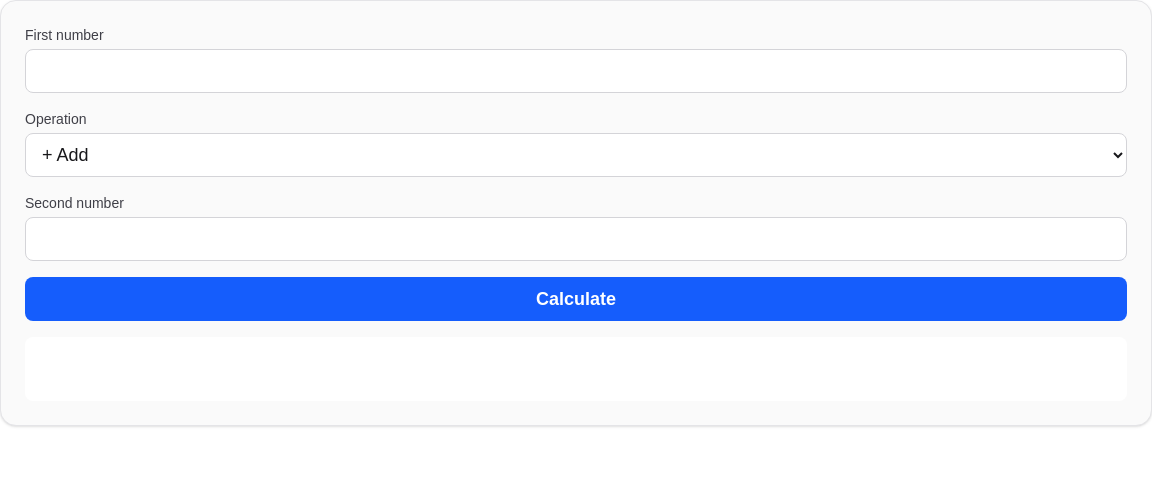
Calculator error handling › clears a field error once the field is edited, then submits
This screenshot has width=1152, height=492.
Click the button "Calculate".
click(576, 299)  # box [25,277,1127,321]
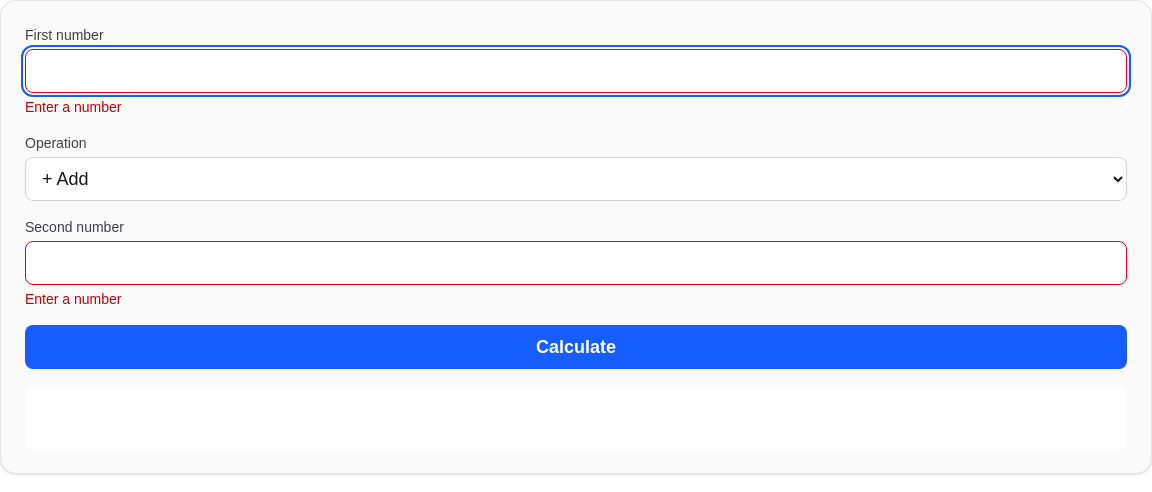
Check: the text "Enter a number" is shown 2 times, box [25,99,122,115]; [25,291,122,307]
Type "10" into the field labelled "First number".
click(576, 71); type("10")  # box [25,49,1127,93]
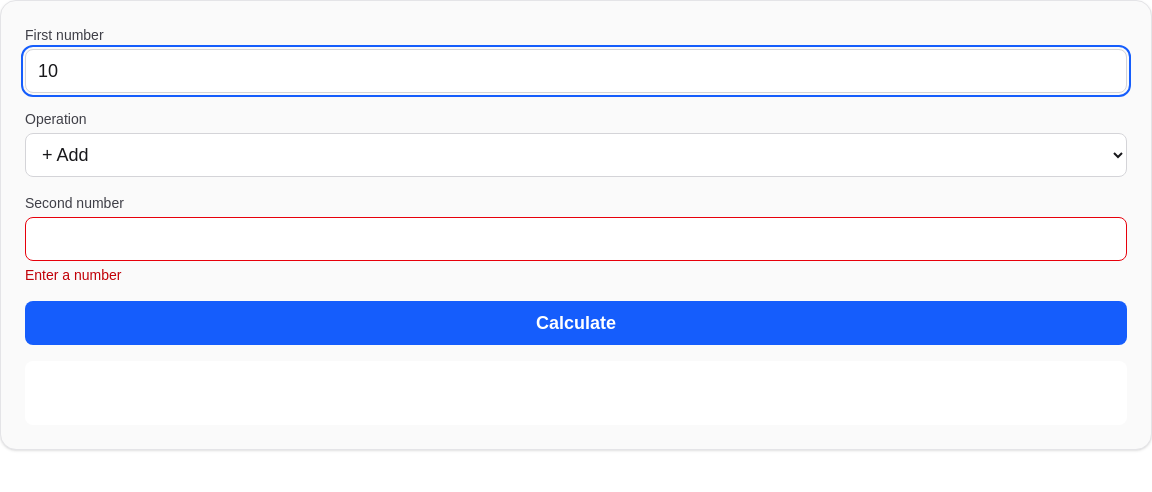
Check: the text "Enter a number" is shown once, box [25,267,122,283]
Select "÷ Divide" in the dropdown labelled "Operation" at (576, 155), box [25,133,1127,177]
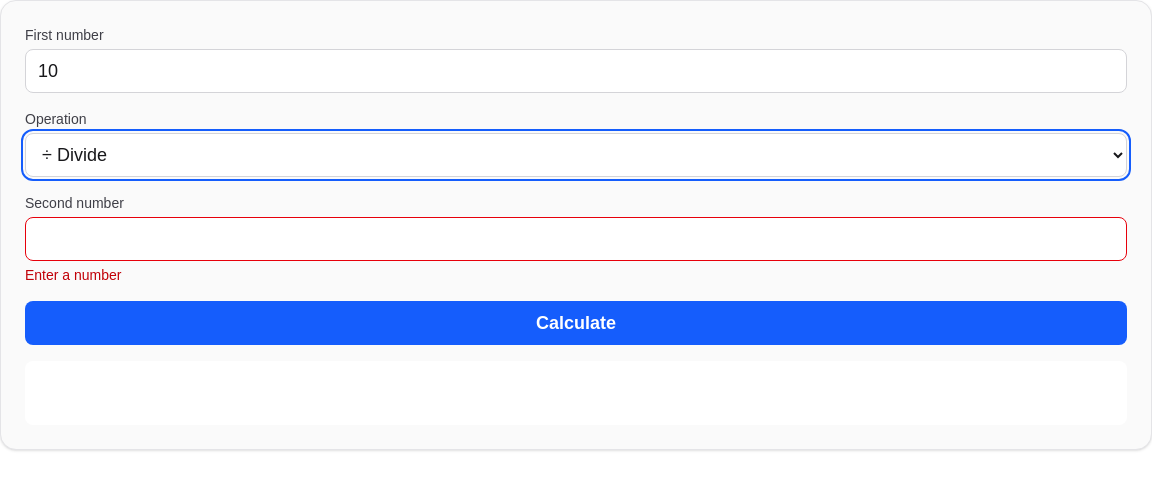
Type "4" into the field labelled "Second number".
click(576, 239); type("4")  # box [25,217,1127,261]
Then press Enter
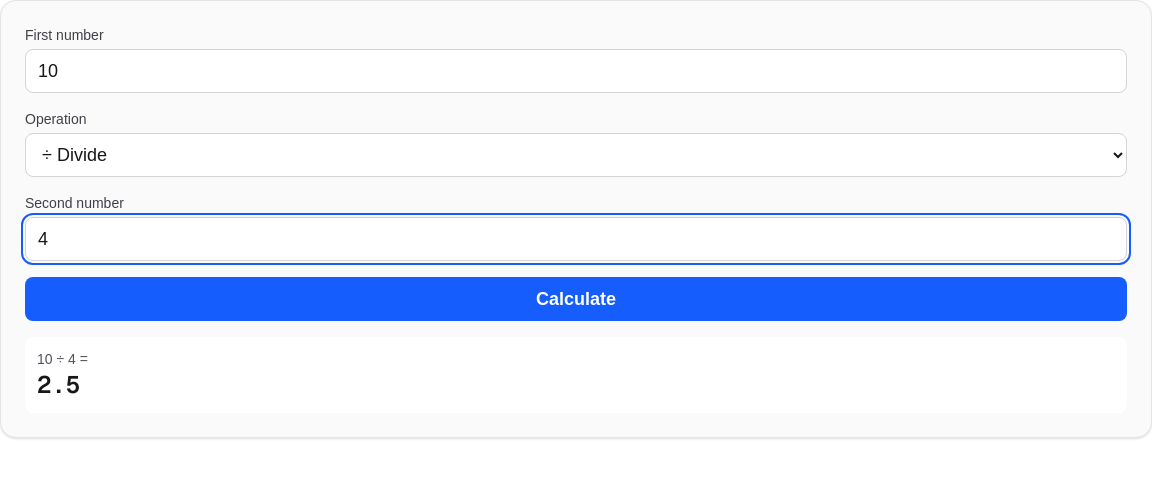
Check: the message shows "2.5", box [37,369,80,400]
Check: the text "Enter a number" is gone
